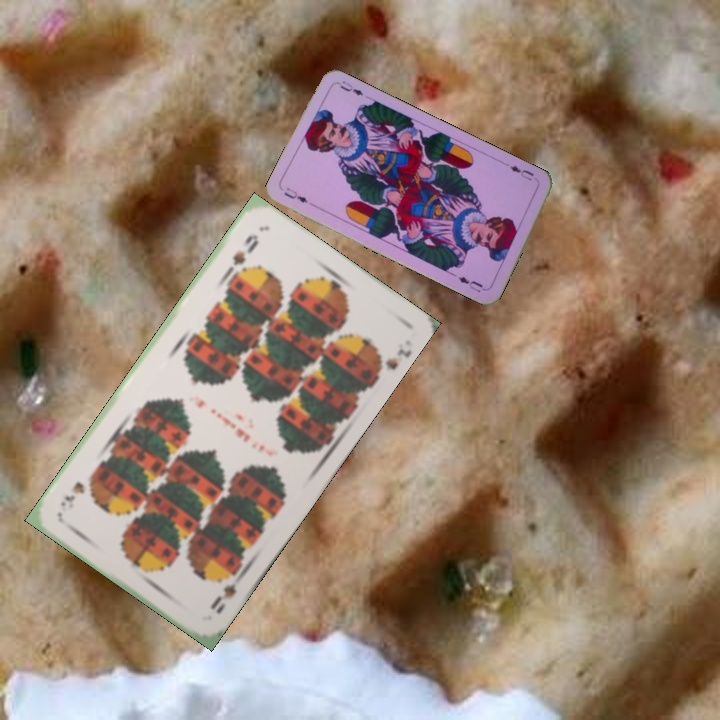EU: (280, 183, 311, 205), (506, 161, 536, 183)
S9: (206, 566, 247, 617), (222, 230, 262, 280)
